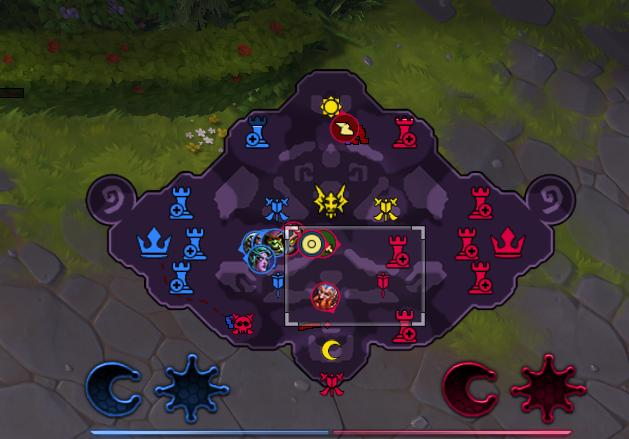blue nexus: (134, 225, 172, 258)
blue player: (246, 244, 275, 273), (261, 229, 288, 257), (239, 230, 265, 257)
blue tower: (244, 113, 270, 149), (167, 260, 194, 294), (181, 226, 207, 260), (168, 185, 193, 219), (263, 196, 289, 223)
red nexus: (489, 225, 526, 258)
red player: (329, 112, 359, 144), (310, 282, 340, 312), (296, 229, 326, 259), (281, 220, 311, 250), (313, 229, 338, 258)
red tower: (466, 259, 493, 295), (453, 226, 479, 261), (391, 114, 417, 149), (467, 185, 493, 219), (392, 308, 417, 342), (386, 234, 410, 268), (375, 270, 390, 298)
